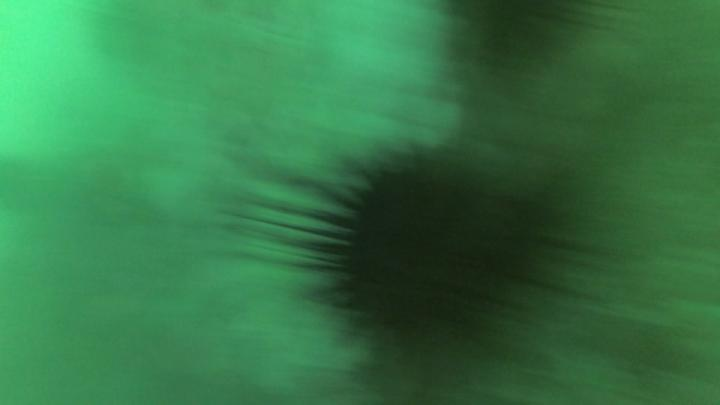echinus: (333, 159, 535, 340)
